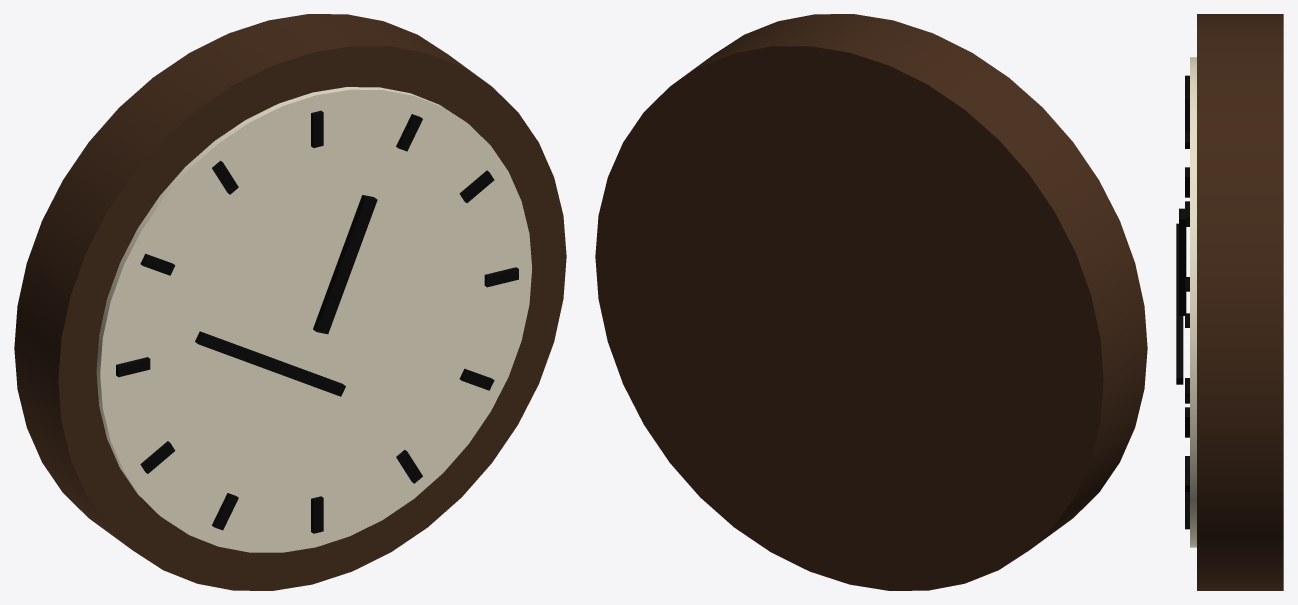
Rendered from wall_clock.glb.
3 renders of one model, left to right at view 1: azimuth 30°, elevation 25°; view 2: azimuth 150°, elevation 25°; view 3: azimuth 270°, elevation 25°, orthographic.
Parts seen in each view (by area): view 1: wall_clock; view 2: wall_clock; view 3: wall_clock.
Boxes of the visible parts, x1,y1,x2,y2 form: wall_clock: [14, 14, 566, 590]; wall_clock: [595, 14, 1147, 590]; wall_clock: [1176, 14, 1283, 590].
Size of the model in its own units: 0.4 by 0.4 by 0.0745.
